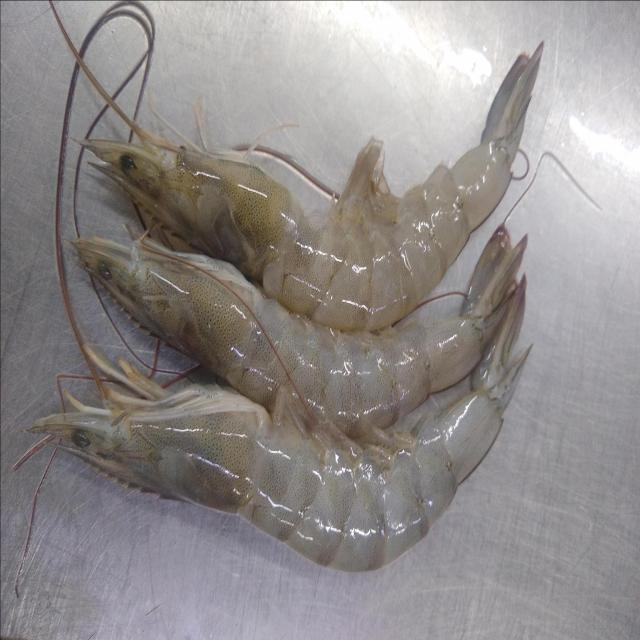shrimp: (80, 44, 543, 330), (29, 320, 530, 573), (72, 237, 527, 438)
